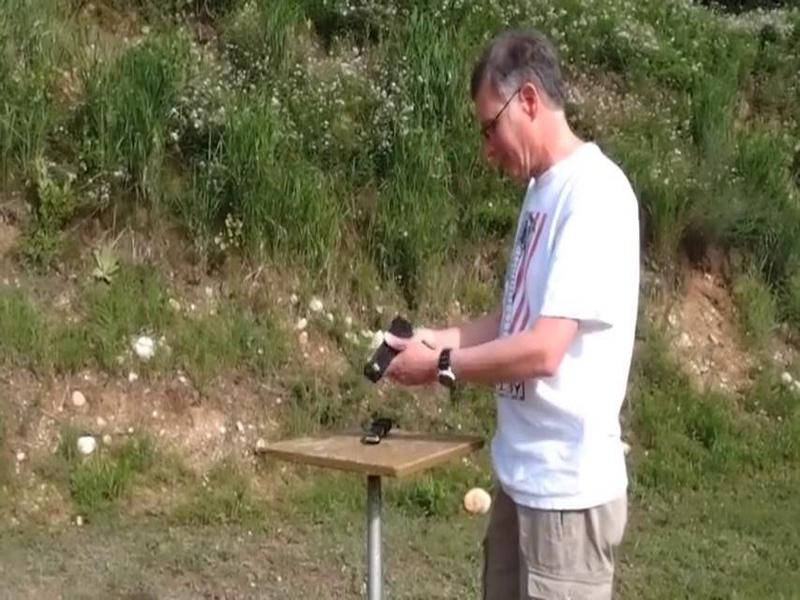Pistola: (354, 309, 430, 384)
